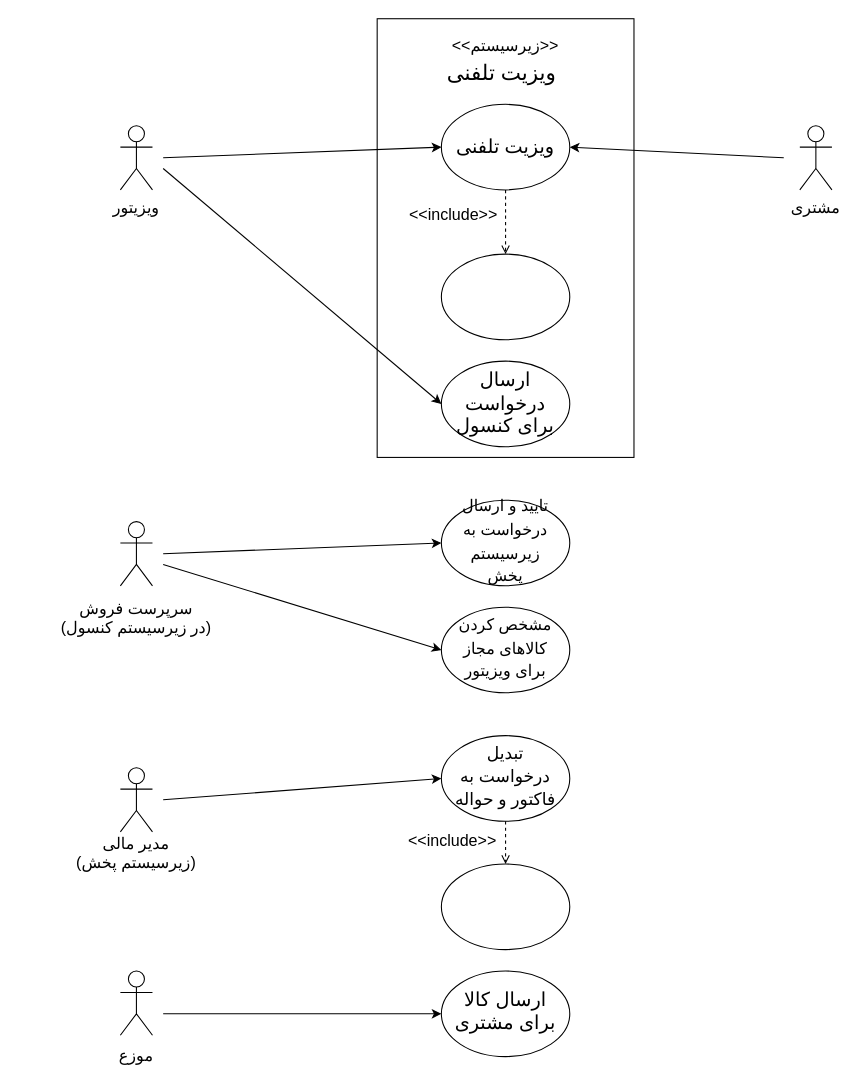
Some shapes in this 860 by 1086 pixel diagram are drawn without their labels. Each missing label, with the box of its shape:
ثبت درخواست تلفنی: (440, 253, 570, 340)
ثبت سند مالی: (440, 863, 570, 950)
